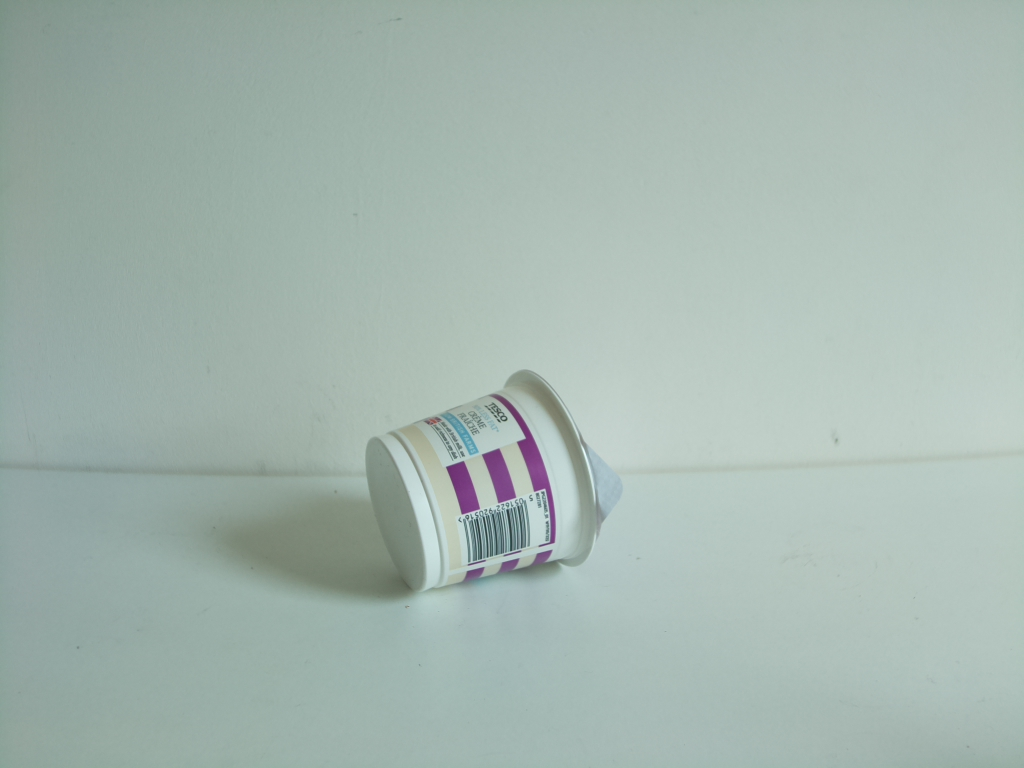cream: (366, 361, 626, 598)
